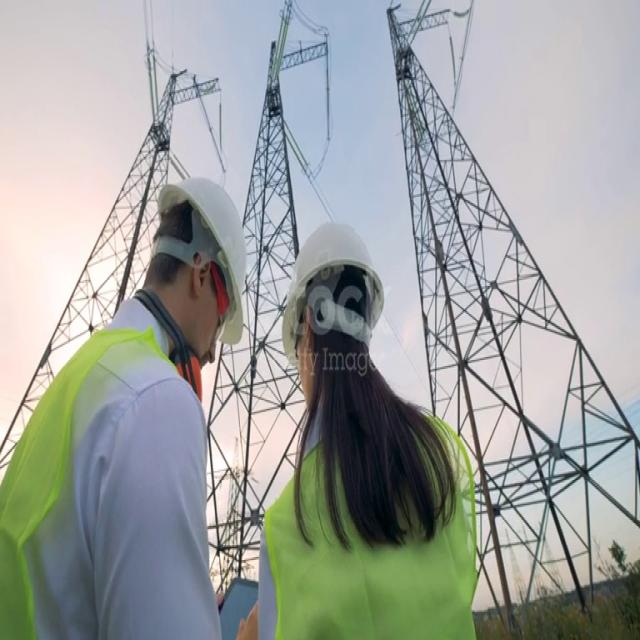capacete: (140, 161, 257, 358), (275, 188, 392, 374)
